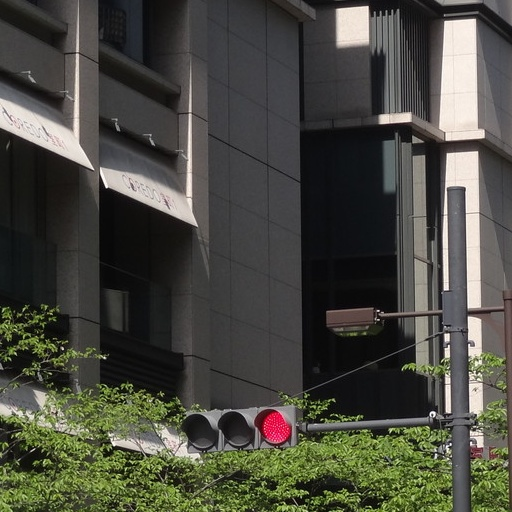Traffic_Signal_Red: (178, 407, 303, 455)
